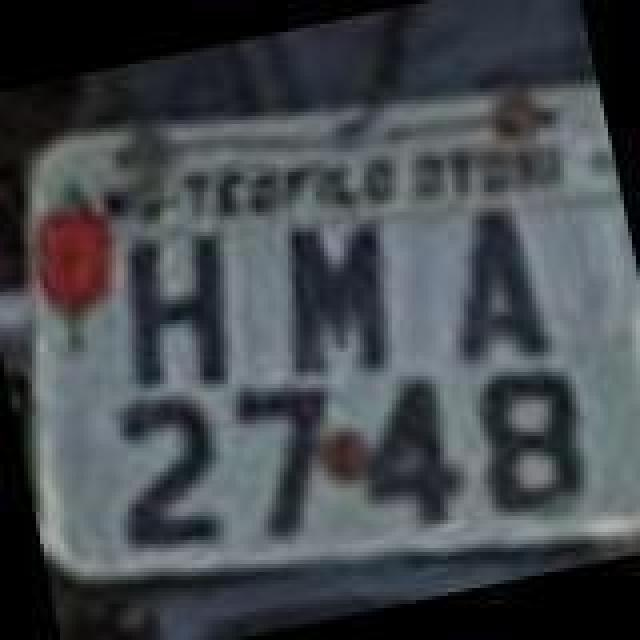2: (104, 388, 232, 556)
4: (342, 364, 474, 532)
7: (228, 374, 348, 538)
8: (470, 354, 602, 526)
A: (426, 202, 550, 374)
H: (106, 214, 246, 394)
M: (270, 210, 410, 382)
